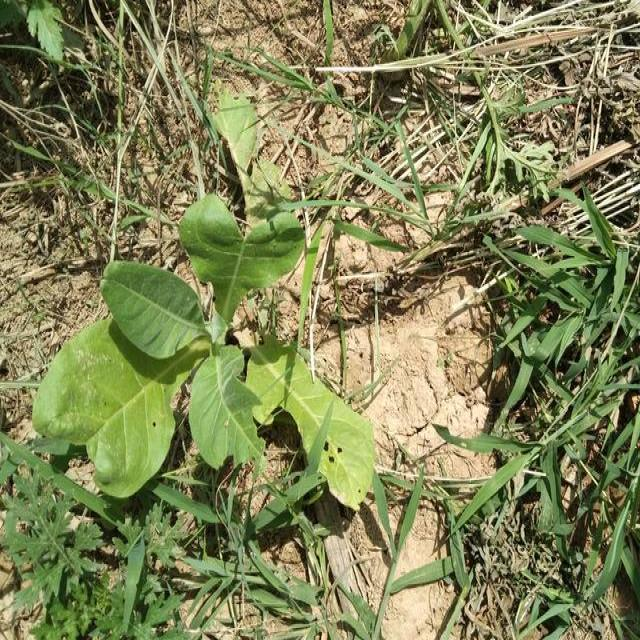crop: (38, 79, 376, 509)
